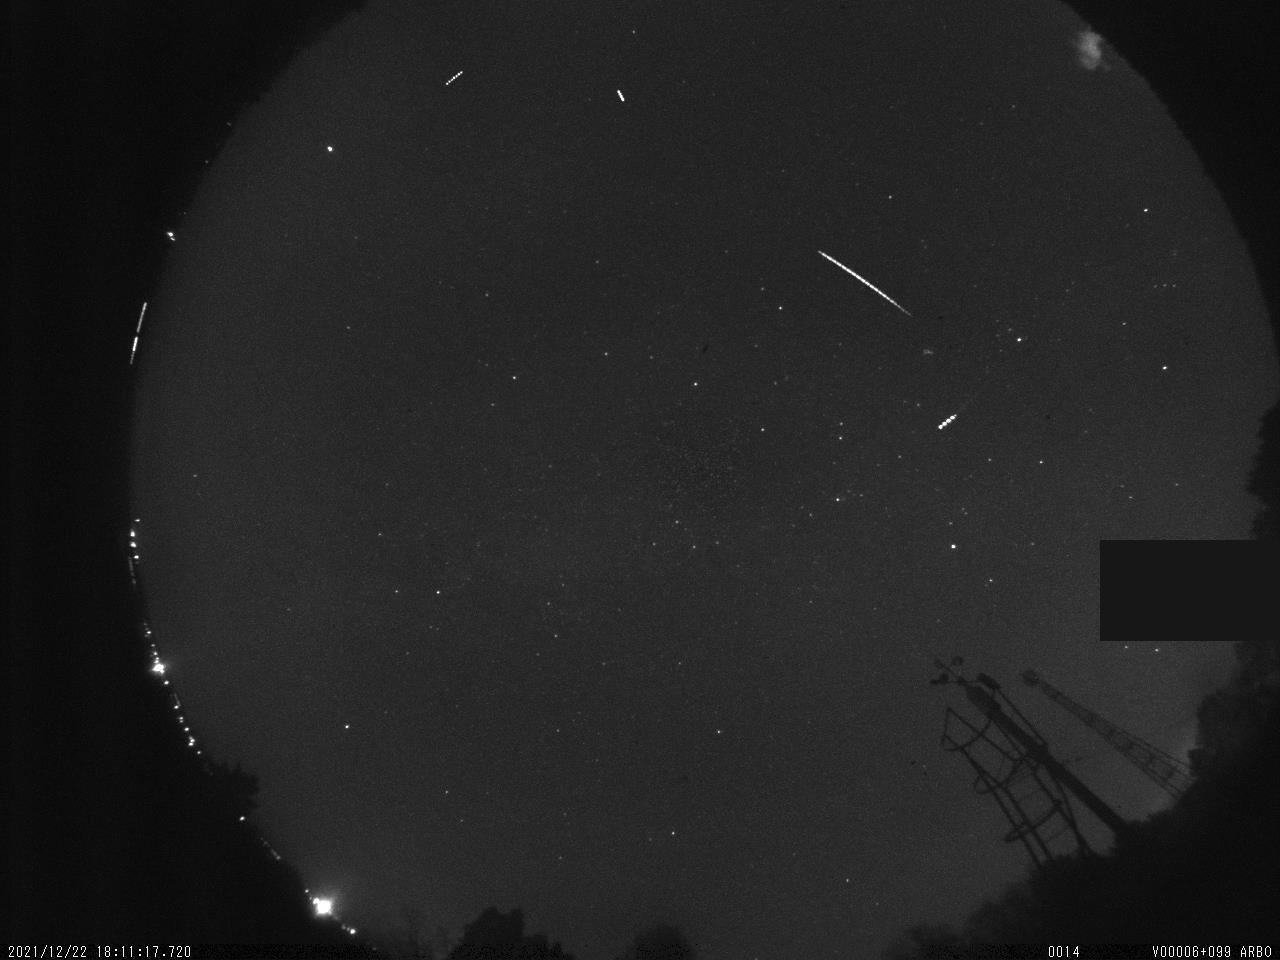meteor: (810, 243, 925, 325)
satelite: (933, 406, 961, 436), (442, 66, 466, 92), (611, 83, 633, 108)
